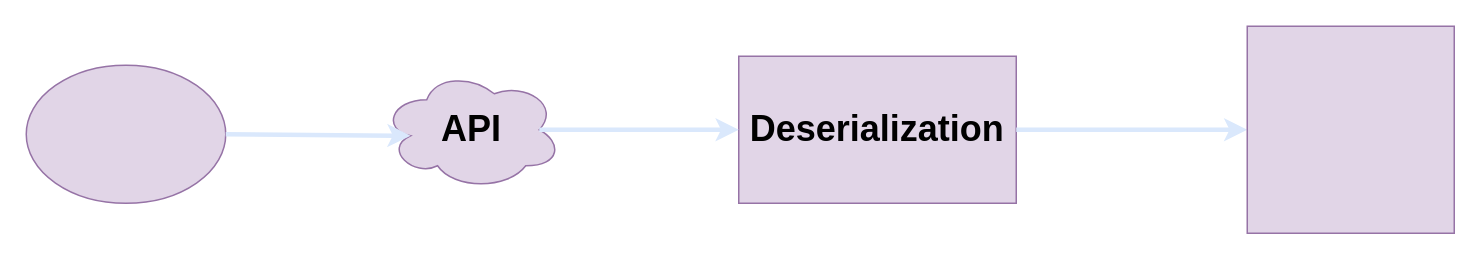
This 1481x260 diagram has some shape labels left out. Here are the shapes that lost their labels. From the top down, the centre of each, then its label:
At (x=125, y=133): "HTTP Client".
At (x=1350, y=129): "C# Object".
